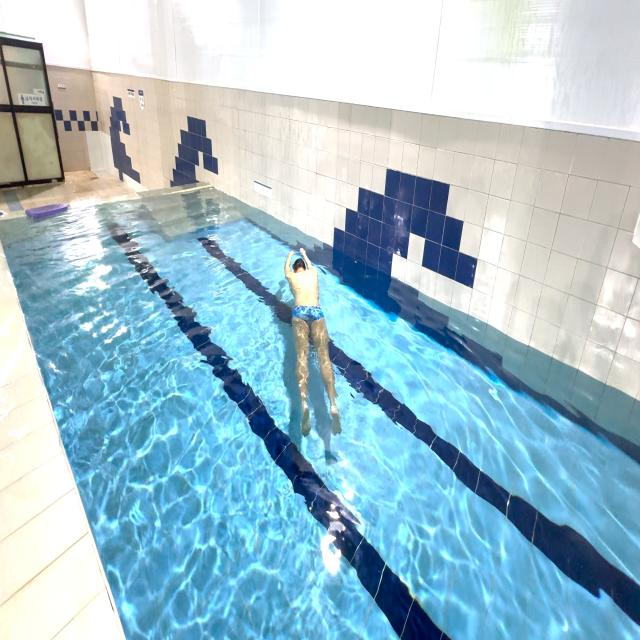Drowning: (276, 240, 348, 455)
